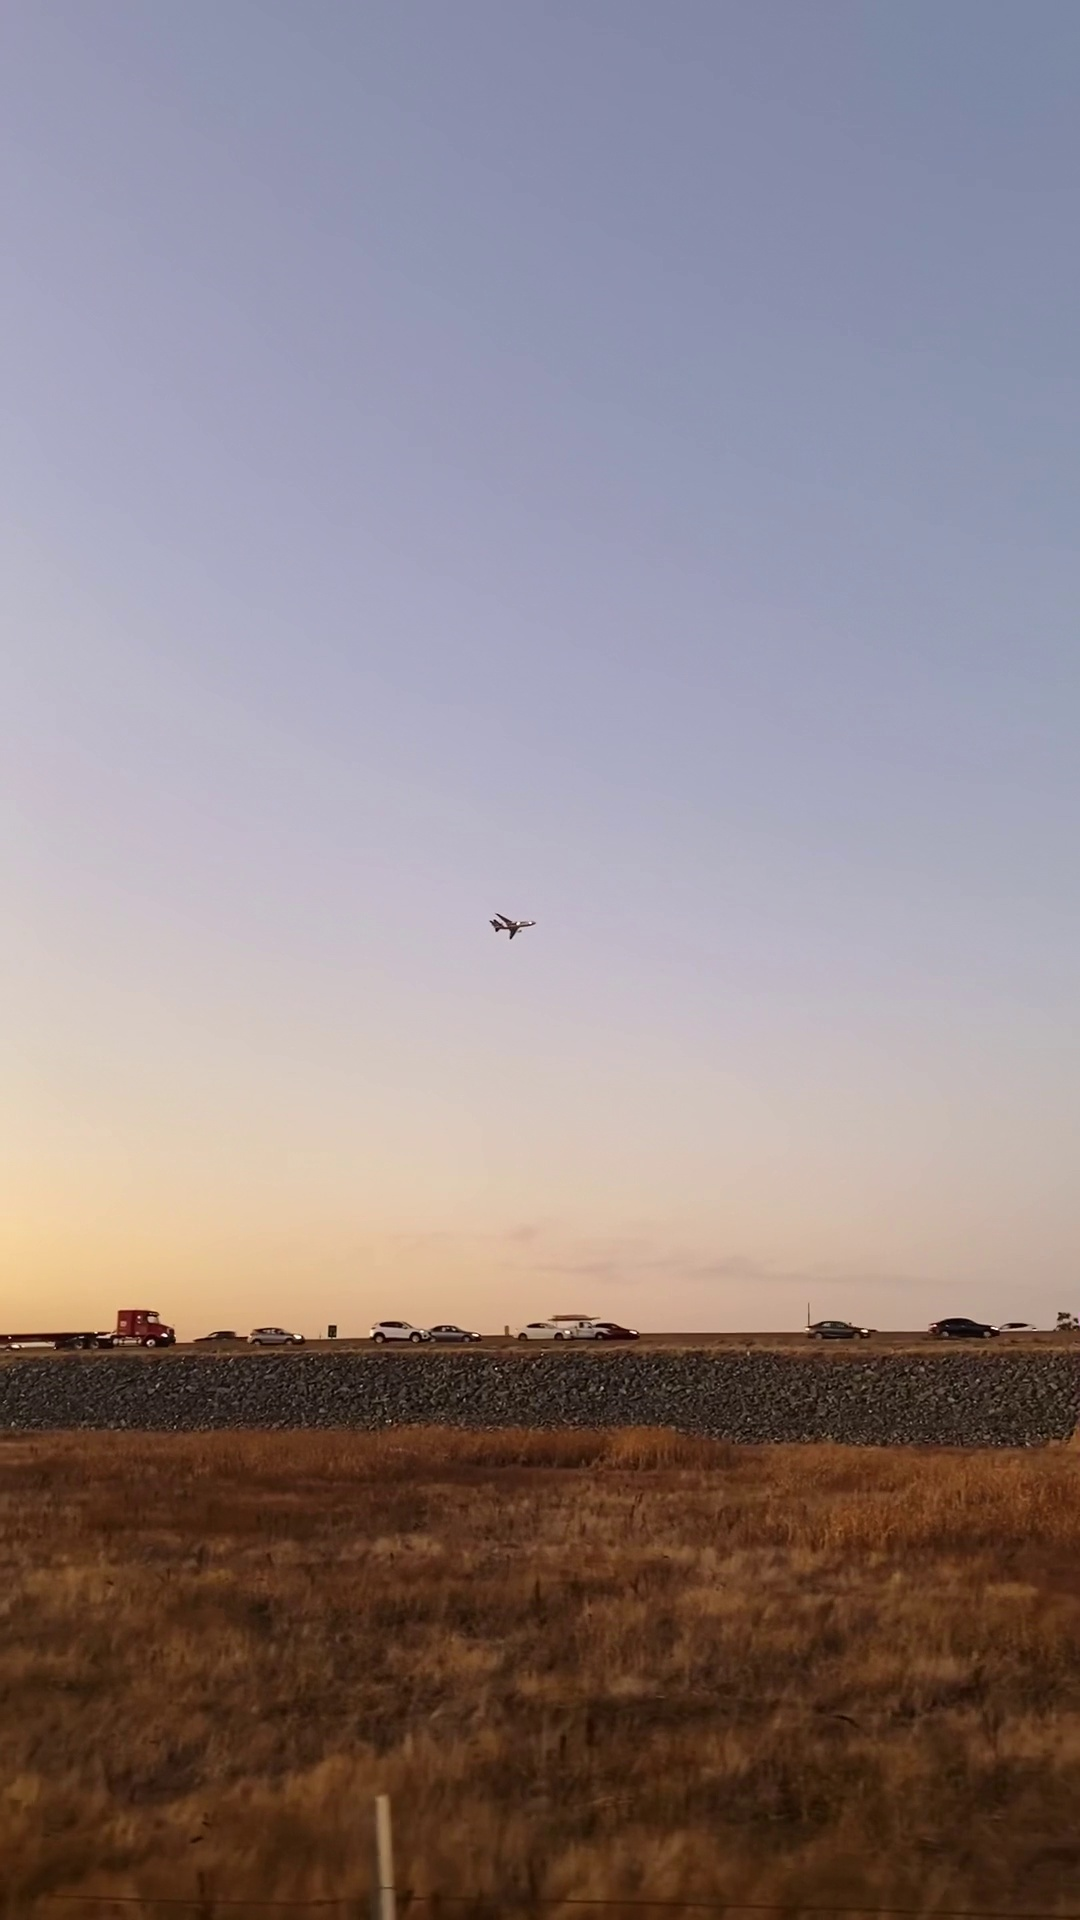plane: (489, 911, 537, 943)
